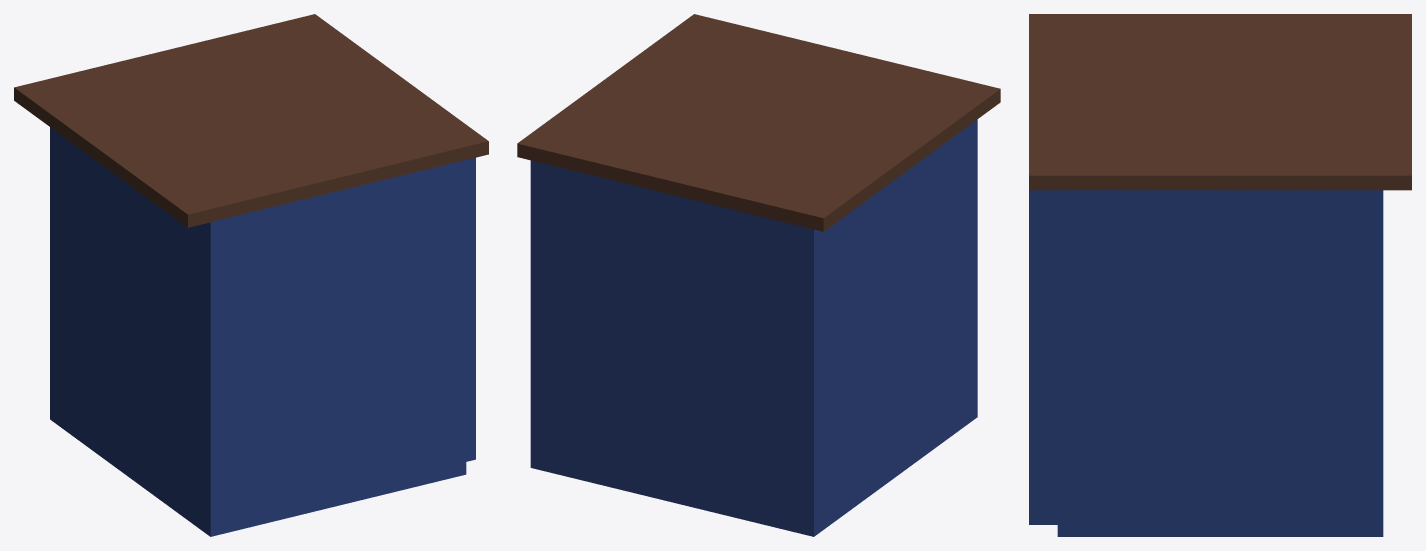
Rendered from Connect_L.fbx.
3 views of the same model, side by side, from view 1: azimuth 30°, elevation 25°; view 2: azimuth 150°, elevation 25°; view 3: azimuth 270°, elevation 25° (orthographic). The views are drawn at different scales.
Visible parts, largest first — view 1: Cube_5, Cube_4; view 2: Cube_5, Cube_4; view 3: Cube_5, Cube_4.
Boxes of the visible parts, x1,y1,x2,y2 form: Cube_5: (50, 127, 475, 536); Cube_4: (14, 14, 488, 227); Cube_5: (530, 119, 977, 536); Cube_4: (517, 14, 1000, 231); Cube_5: (1029, 190, 1383, 536); Cube_4: (1029, 14, 1411, 190).
Bounding box in the file's own units: 200 × 208 × 200.
